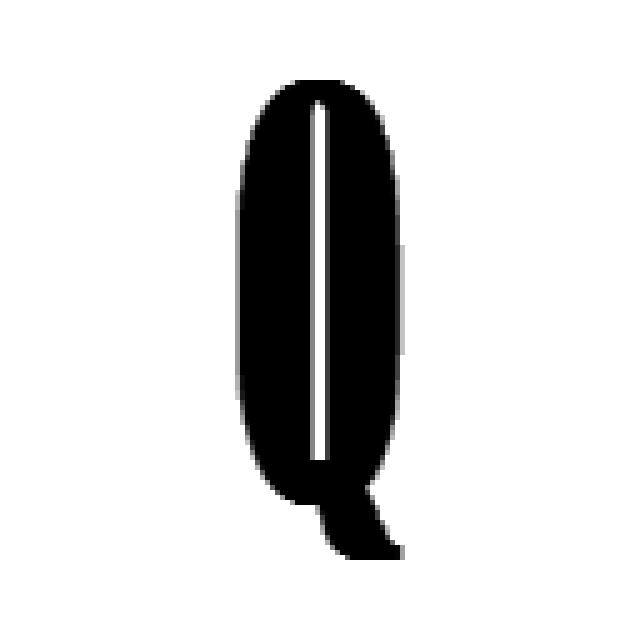Q: (225, 70, 410, 565)
